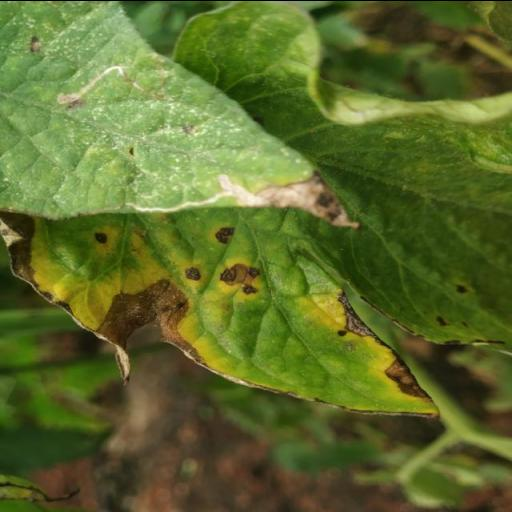Early Blight: (0, 212, 441, 422)
